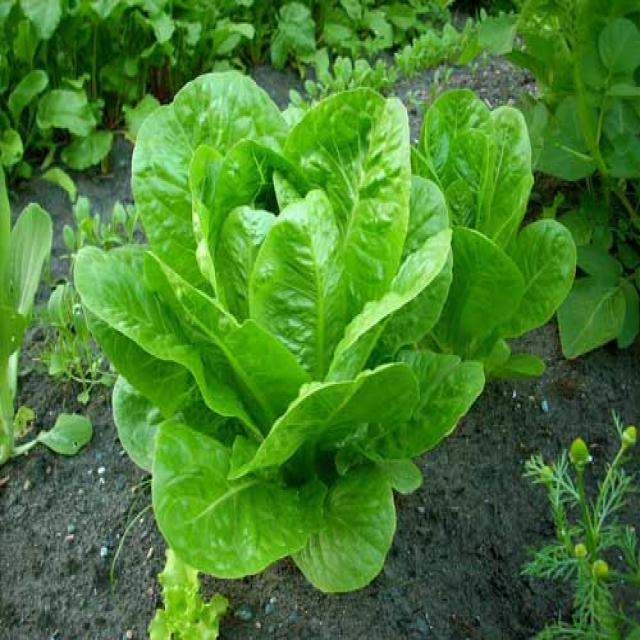lettuce: (82, 74, 432, 585), (421, 82, 562, 352)
